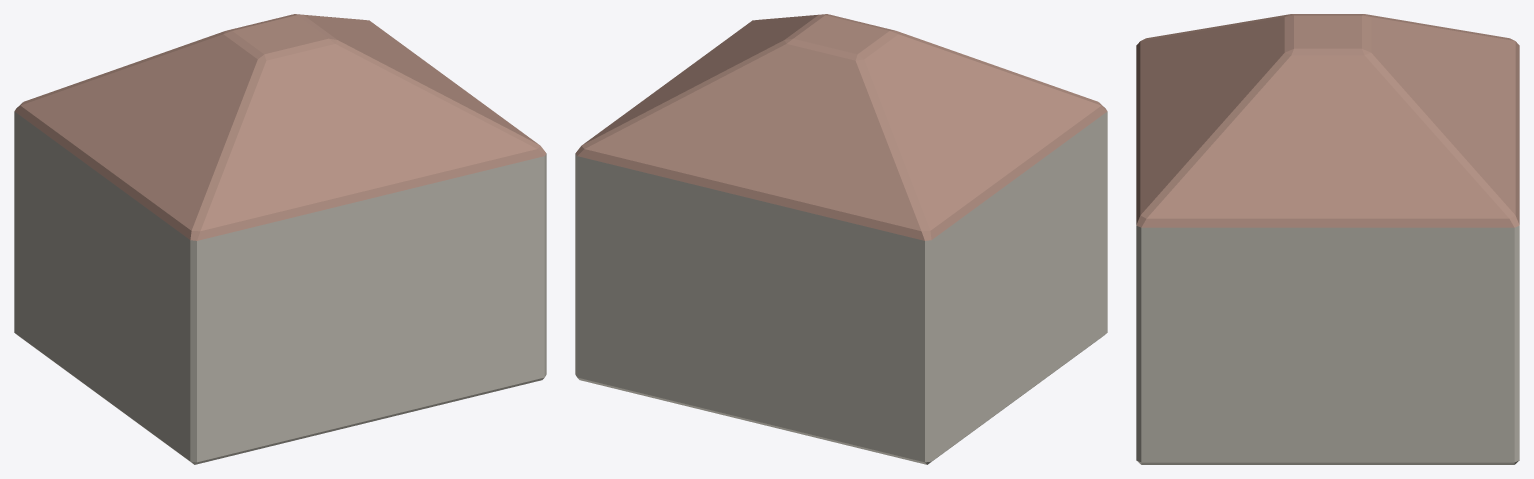
The model's file is town_villa.glb.
3 renders of one model, left to right at view 1: azimuth 30°, elevation 25°; view 2: azimuth 150°, elevation 25°; view 3: azimuth 270°, elevation 25°, orthographic. The views are drawn at different scales.
Visible parts, largest first — view 1: villa; view 2: villa; view 3: villa.
Boxes of the visible parts, x1=… form: villa: x1=14, y1=14, x2=546, y2=464; villa: x1=575, y1=14, x2=1107, y2=464; villa: x1=1136, y1=14, x2=1519, y2=464.
Size of the model in its own units: 0.34 by 0.295 by 0.299.
